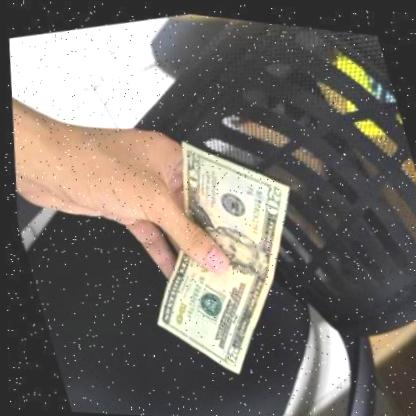twenty-front: (91, 106, 347, 396)
